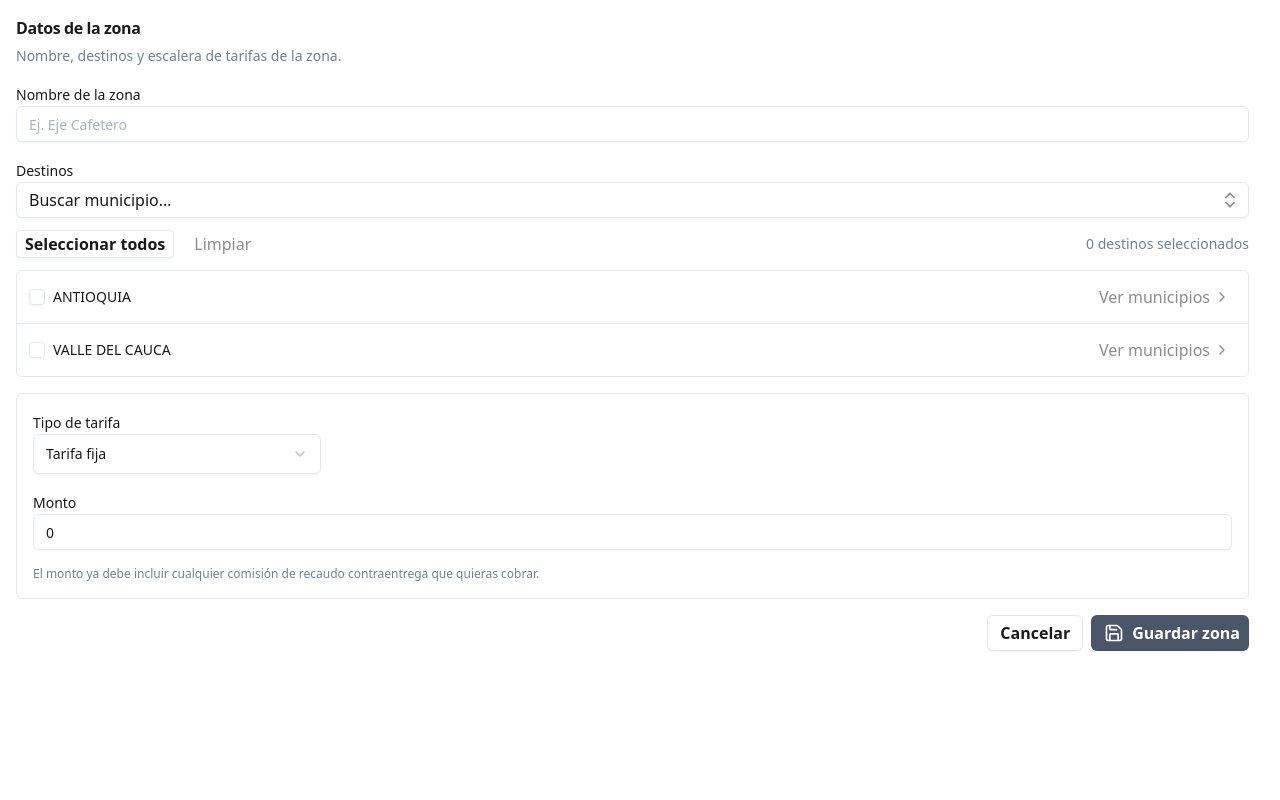
Scenario: ZoneForm destinations picker › selects every department at once with 'Seleccionar todos', and clears everything with 'Limpiar' once confirmed
Click the button "Seleccionar todos" at (95, 244), box [16,230,174,258]
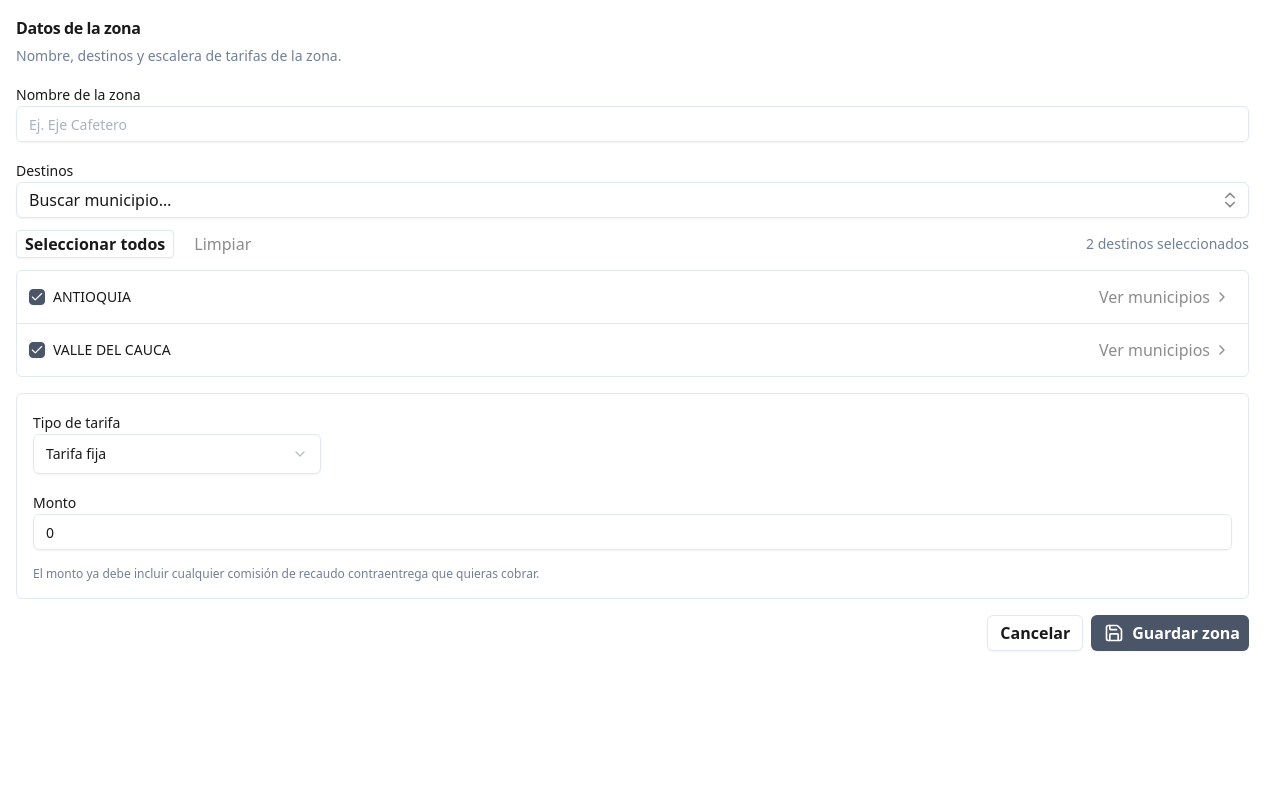
expect the checkbox named "ANTIOQUIA" next to "ANTIOQUIA" is checked: met, box [29,289,45,305]
expect the checkbox named "VALLE DEL CAUCA" next to "VALLE DEL CAUCA" is checked: met, box [29,342,45,358]
expect the text "2 destinos seleccionados" is shown: met, box [1086,234,1249,254]
Click the button "Limpiar" at (223, 244), box [186,230,259,258]
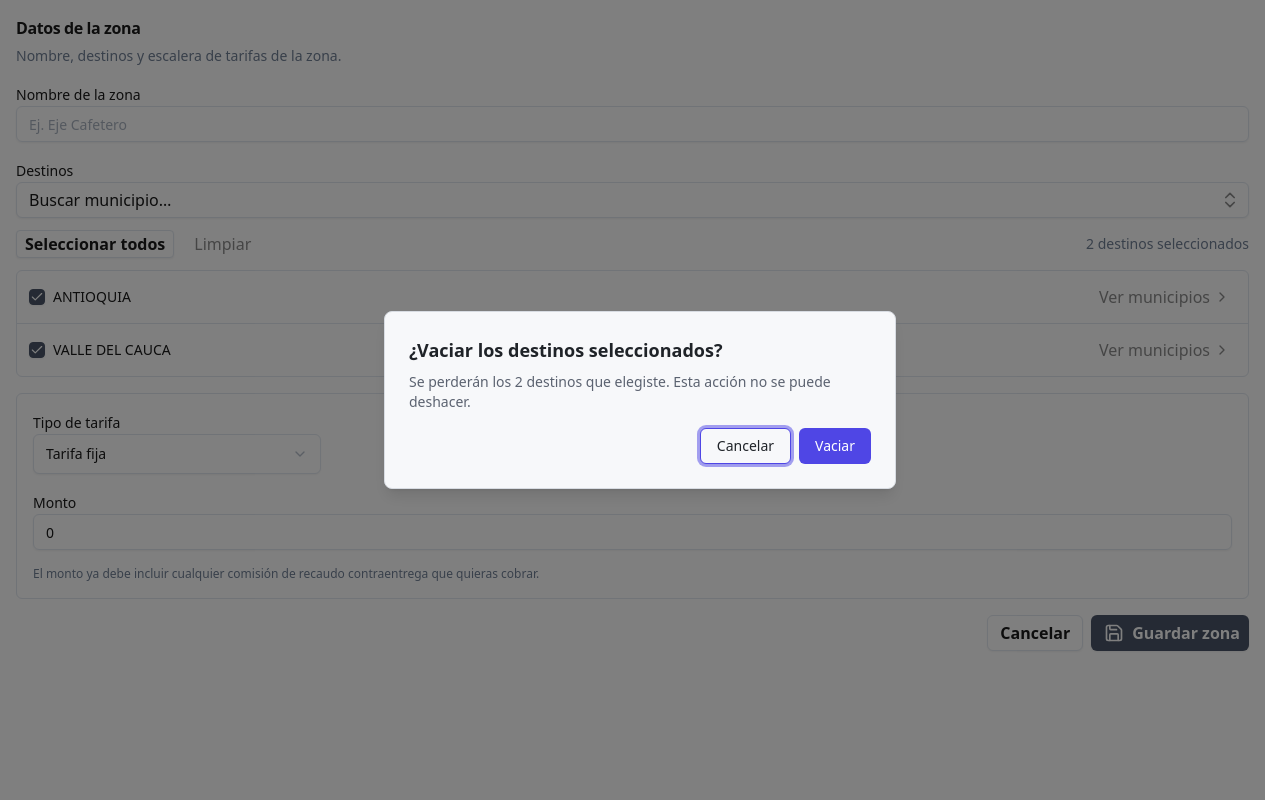
Click the button "Vaciar" at (835, 446), box [799,428,871,464]
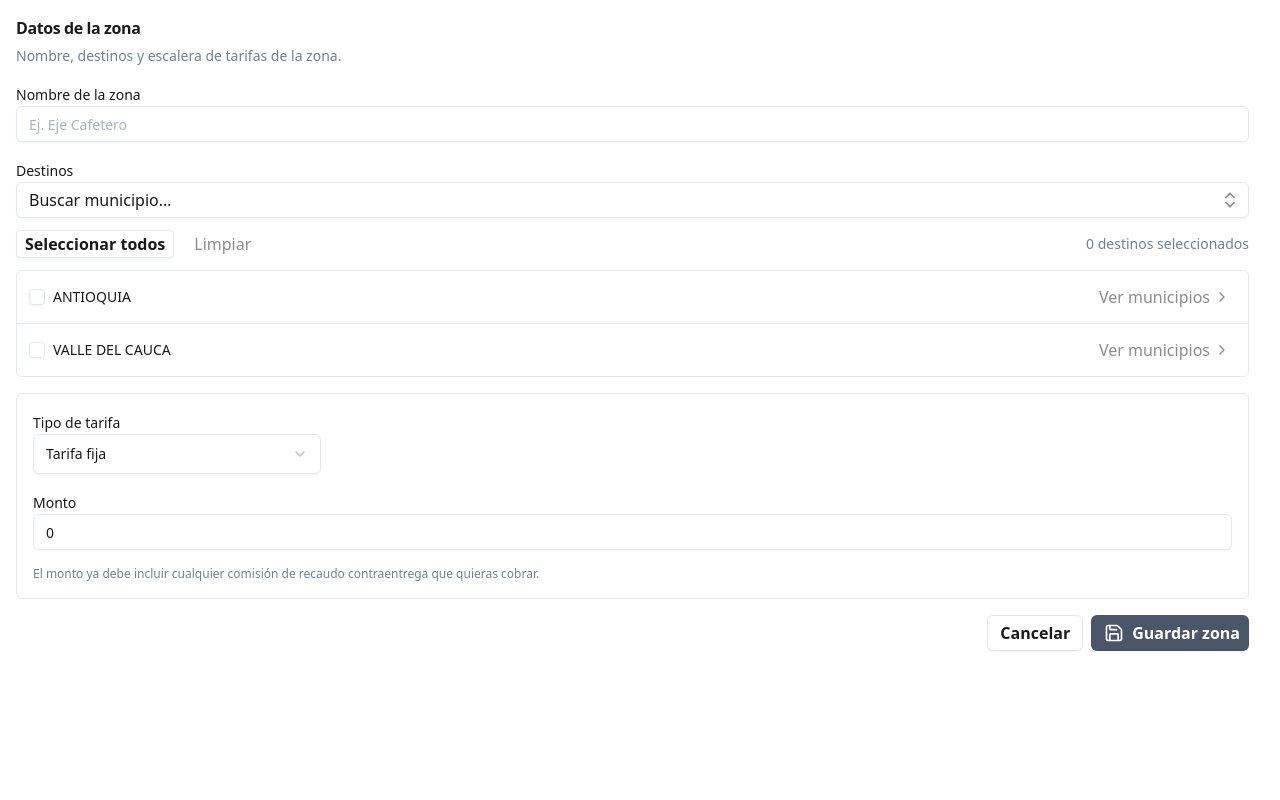
expect the checkbox named "ANTIOQUIA" next to "ANTIOQUIA" is not checked: met, box [29,289,45,305]
expect the checkbox named "VALLE DEL CAUCA" next to "VALLE DEL CAUCA" is not checked: met, box [29,342,45,358]
expect the text "0 destinos seleccionados" is shown: met, box [1086,234,1249,254]
